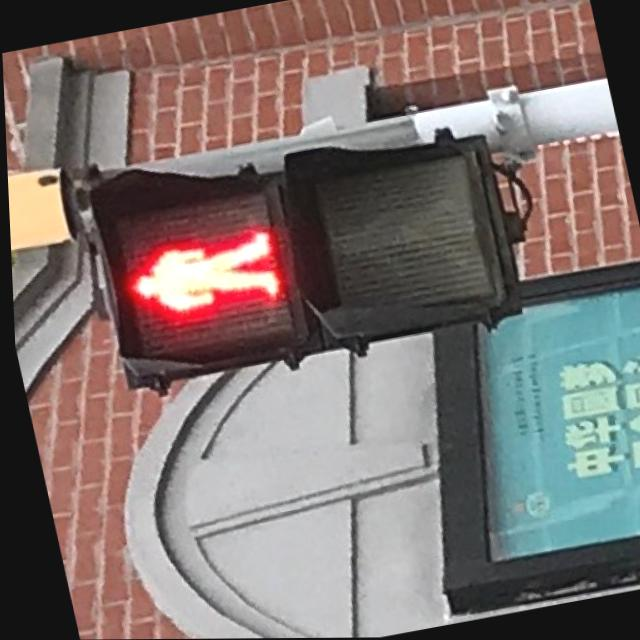red_light: (85, 189, 314, 368)
